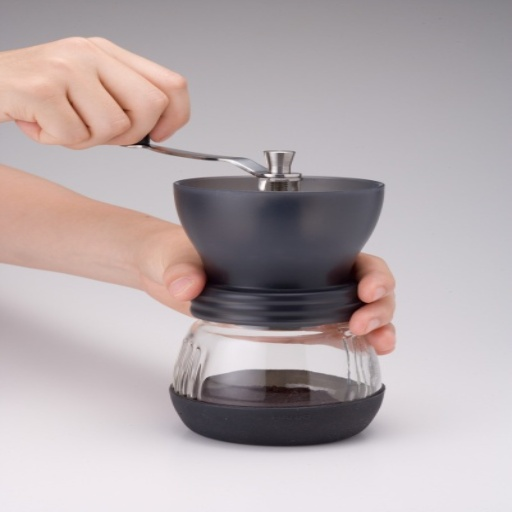hand: (124, 223, 398, 354), (0, 34, 215, 169)
